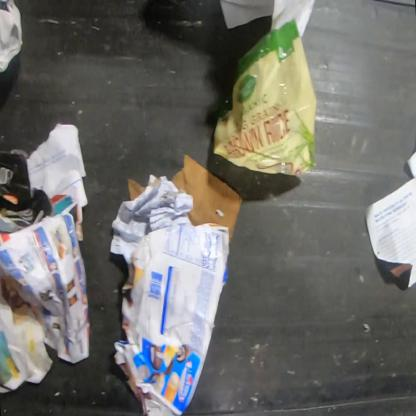cardboard: (113, 222, 230, 415), (172, 155, 244, 245)
soft_plastic: (212, 17, 318, 179)
